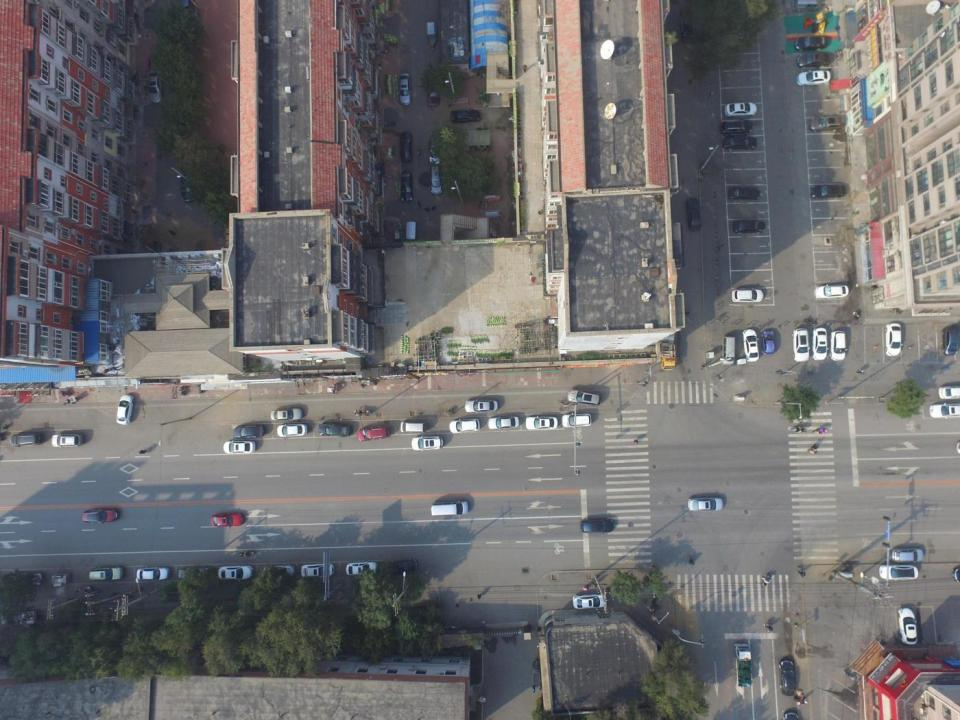car: (897, 607, 918, 646), (878, 563, 918, 582), (180, 164, 198, 203), (147, 69, 166, 105), (778, 659, 796, 697), (808, 115, 845, 133), (384, 557, 419, 576), (567, 387, 602, 406), (791, 327, 810, 362), (828, 330, 848, 362), (796, 69, 831, 87), (885, 322, 903, 357), (742, 328, 760, 363), (83, 507, 120, 524), (813, 283, 850, 300), (218, 564, 254, 581), (357, 424, 392, 441), (722, 134, 757, 151), (572, 593, 607, 610), (724, 100, 757, 118), (88, 565, 125, 581), (809, 183, 846, 199), (116, 394, 135, 425), (811, 327, 828, 361), (688, 496, 724, 512), (686, 197, 702, 233), (727, 185, 760, 202), (210, 512, 245, 528), (222, 440, 257, 456), (317, 422, 352, 438), (136, 566, 171, 582), (580, 518, 615, 534), (464, 398, 499, 414), (731, 218, 766, 234), (796, 52, 831, 68), (234, 423, 266, 440), (410, 435, 444, 451), (301, 562, 335, 578), (731, 287, 765, 303), (721, 118, 753, 135), (794, 35, 828, 51), (928, 402, 960, 419), (261, 564, 297, 579), (345, 560, 378, 576), (561, 412, 592, 429), (276, 422, 308, 438), (449, 109, 481, 125), (399, 170, 414, 204), (940, 328, 958, 356), (270, 407, 303, 422), (525, 415, 558, 430), (448, 419, 480, 434), (399, 131, 414, 163), (892, 547, 924, 562), (10, 432, 41, 447), (51, 434, 83, 448), (488, 416, 520, 430), (398, 72, 410, 106), (760, 330, 775, 355), (938, 385, 960, 398)
truck: (734, 642, 753, 686)
van: (430, 499, 468, 517), (720, 336, 736, 365), (430, 164, 443, 195), (400, 420, 426, 434)
